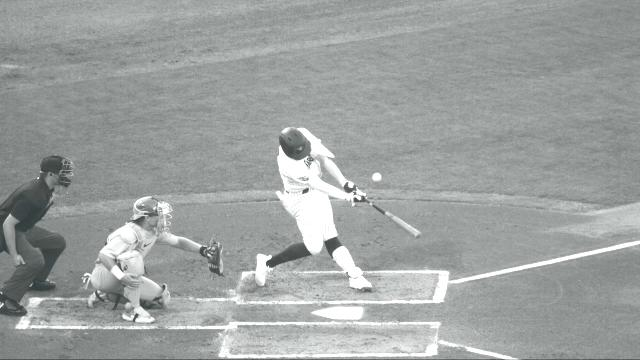ball: (373, 172, 383, 184)
bat: (362, 192, 420, 240)
